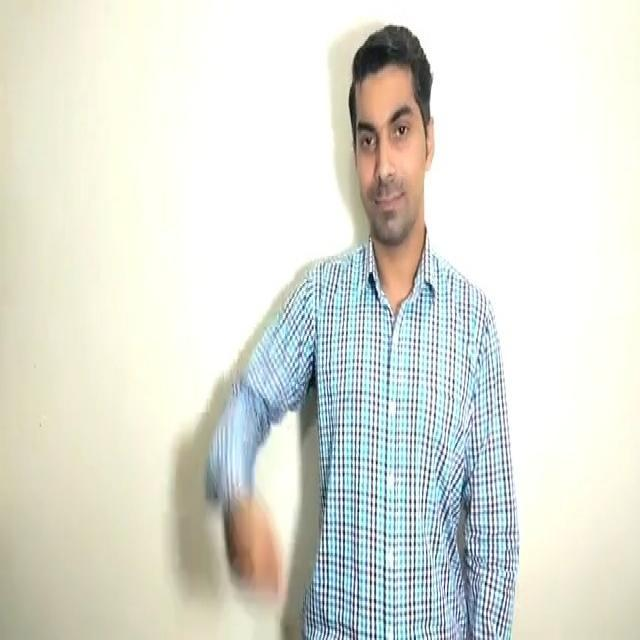bag: (216, 477, 294, 602)
